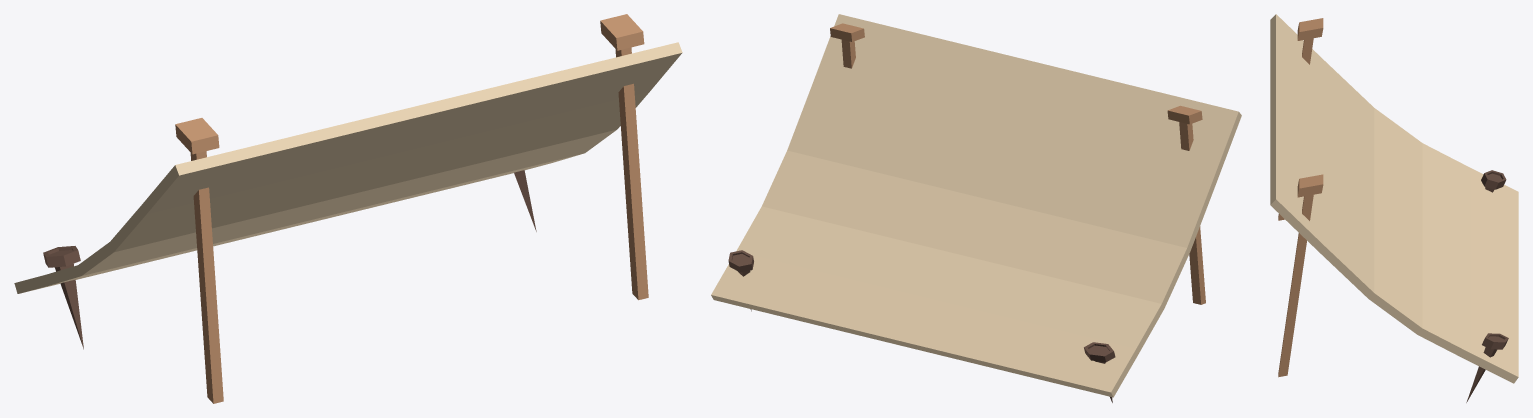
Rendered from 小帐篷.fbx.
3 views of the same model, side by side, from view 1: azimuth 30°, elevation 25°; view 2: azimuth 150°, elevation 25°; view 3: azimuth 270°, elevation 25° (orthographic). The views are drawn at different scales.
Parts seen in each view (by area): view 1: Plane.004, Cube.014, Cube.013, Cylinder.005; view 2: Plane.004, Cube.013, Cube.014, Cylinder.005, Cylinder.006; view 3: Plane.004, Cube.014, Cube.013, Cylinder.006, Cylinder.005.
Part boxes in pixels (bbox=[...]): Plane.004: bbox=[14, 42, 682, 293]; Cube.014: bbox=[600, 14, 648, 300]; Cube.013: bbox=[175, 118, 223, 403]; Cylinder.005: bbox=[43, 246, 83, 349]; Plane.004: bbox=[711, 14, 1241, 397]; Cube.013: bbox=[1167, 105, 1205, 304]; Cube.014: bbox=[830, 23, 864, 68]; Cylinder.005: bbox=[1084, 342, 1115, 402]; Cylinder.006: bbox=[728, 250, 753, 311]; Plane.004: bbox=[1270, 14, 1518, 383]; Cube.014: bbox=[1278, 174, 1323, 377]; Cube.013: bbox=[1278, 18, 1323, 220]; Cylinder.006: bbox=[1466, 333, 1508, 402]; Cylinder.005: bbox=[1481, 170, 1506, 192].
Size of the model in its own units: 200 by 112 by 113.
